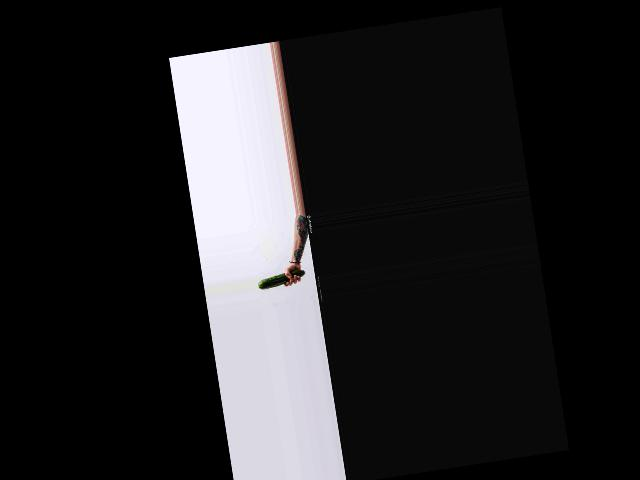cucumber: (256, 269, 306, 290)
